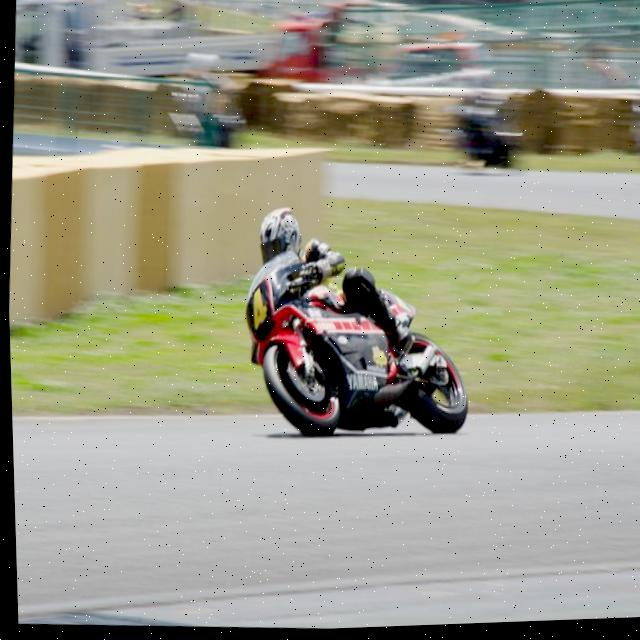motorcycle: (238, 248, 466, 457)
